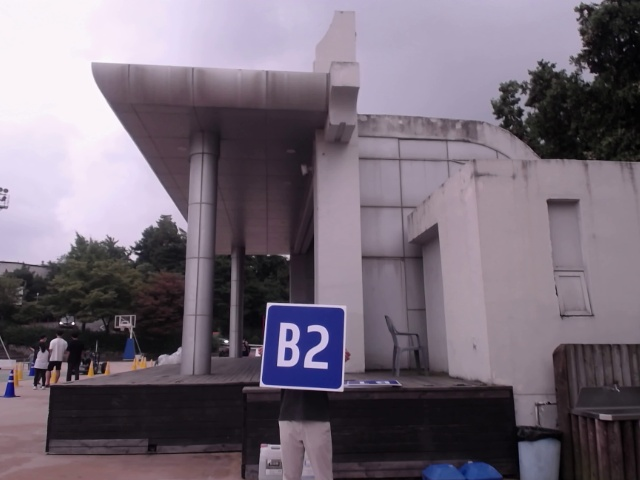delivery_b2: (264, 299, 344, 394)
